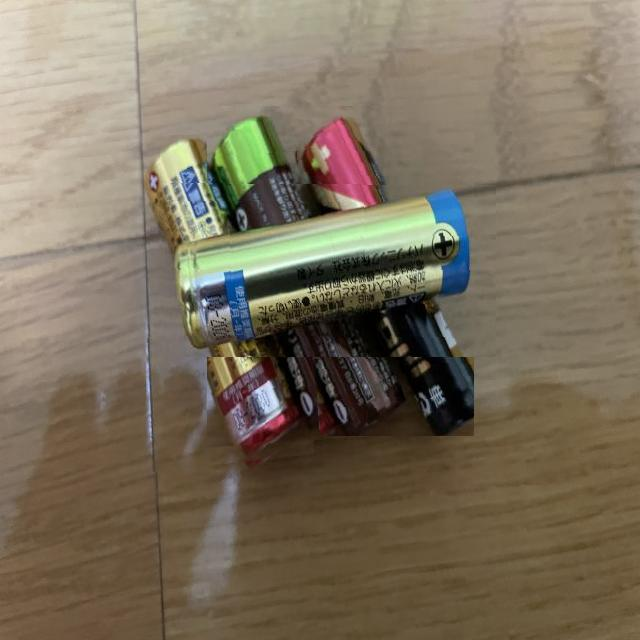battery: (293, 104, 474, 436), (207, 106, 380, 448), (160, 183, 497, 357), (146, 135, 316, 473)
